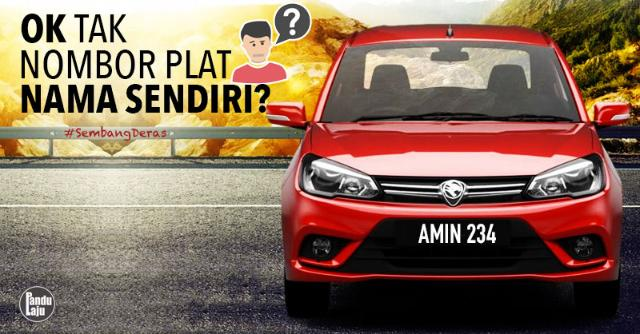License_Plate: (384, 221, 528, 254)
car: (274, 19, 623, 317)
